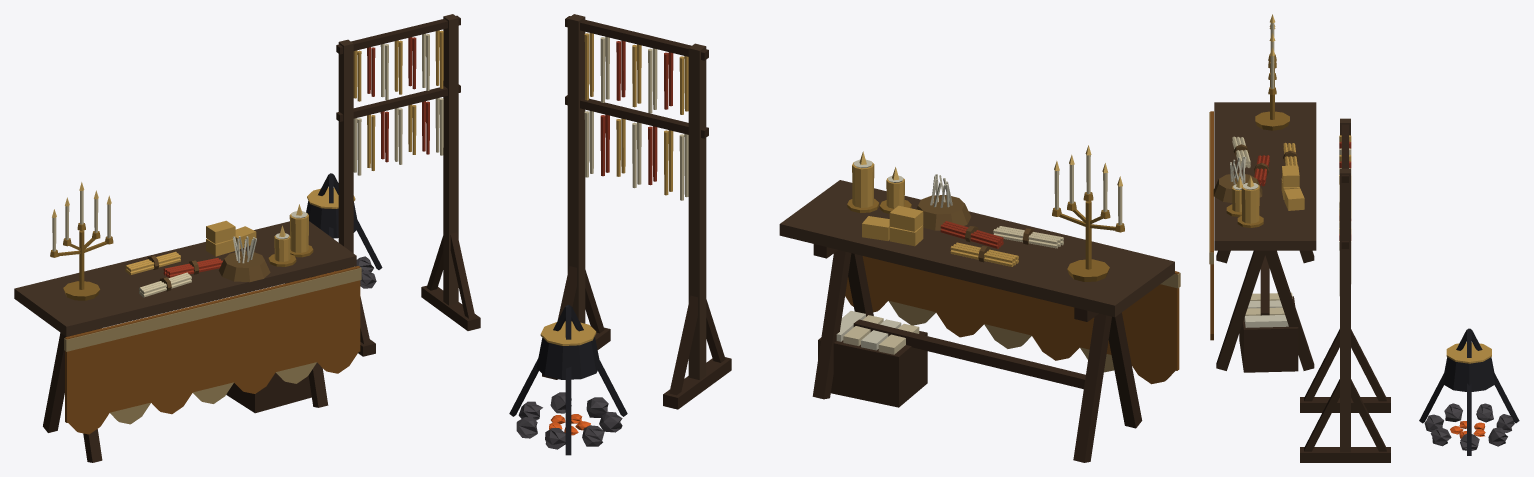
File: chandler-stall.glb
3 views of the same model, side by side, from view 1: azimuth 30°, elevation 25°; view 2: azimuth 150°, elevation 25°; view 3: azimuth 270°, elevation 25° (orthographic). The views are drawn at different scales.
Parts seen in each view (by area): view 1: chandler-stall; view 2: chandler-stall; view 3: chandler-stall.
Boxes of the visible parts, left/top/right/bottom form: chandler-stall: left=14, top=14, right=480, bottom=462; chandler-stall: left=509, top=14, right=1180, bottom=462; chandler-stall: left=1209, top=14, right=1519, bottom=462.
Size of the model in its own units: 2.87 by 1.76 by 1.7.
